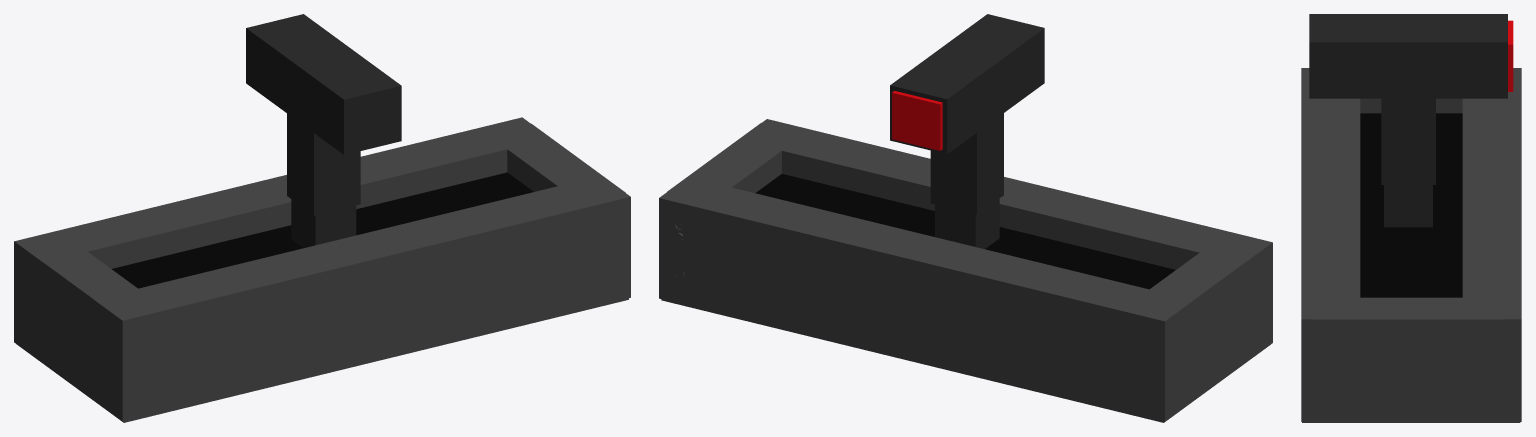
Rendered from zeniththrottle.fbx.
The picture shows the model from 3 angles, left to right: view 1: azimuth 30°, elevation 25°; view 2: azimuth 150°, elevation 25°; view 3: azimuth 270°, elevation 25°; orthographic projection.
Visible parts, largest first — view 1: ThrottleFrame, ThrottleHandle, ThrottleScreen, ThrottleConnectorUp, ThrottleConnectorDown, ThrottleBottom; view 2: ThrottleFrame, ThrottleHandle, ThrottleScreen, ThrottleConnectorUp, EBrake, ThrottleConnectorDown, ThrottleBottom; view 3: ThrottleFrame, ThrottleHandle, ThrottleScreen, ThrottleConnectorUp, ThrottleConnectorDown, EBrake, ThrottleBottom.
Boxes of the visible parts, box(x1,y1,x2,y2) form: ThrottleFrame: box(14, 117, 630, 421); ThrottleHandle: box(246, 14, 401, 154); ThrottleScreen: box(112, 172, 533, 288); ThrottleConnectorUp: box(287, 113, 360, 215); ThrottleConnectorDown: box(291, 199, 356, 248); ThrottleBottom: box(16, 298, 628, 422); ThrottleFrame: box(659, 119, 1272, 421); ThrottleHandle: box(890, 14, 1044, 154); ThrottleScreen: box(755, 174, 1175, 289); ThrottleConnectorUp: box(930, 113, 1003, 214); EBrake: box(892, 91, 942, 150); ThrottleConnectorDown: box(935, 198, 999, 249); ThrottleBottom: box(661, 275, 1270, 422); ThrottleFrame: box(1301, 68, 1521, 422); ThrottleHandle: box(1309, 14, 1507, 98); ThrottleScreen: box(1360, 113, 1462, 297); ThrottleConnectorUp: box(1381, 98, 1435, 184); ThrottleConnectorDown: box(1384, 185, 1432, 227); EBrake: box(1508, 20, 1513, 91); ThrottleBottom: box(1302, 422, 1520, 422).
Bounding box in the file's own units: 157 × 78.53 × 58.06.
